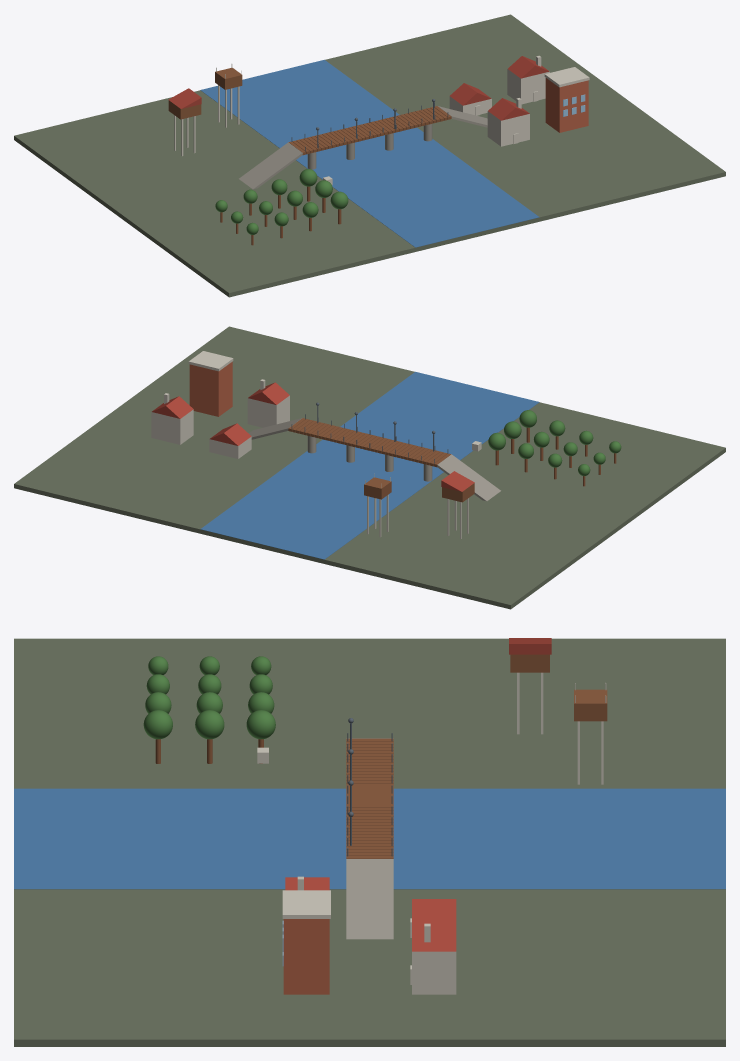
The model's file is semantics.L0.glb.
The picture shows the model from 3 angles, top to bottom: view 1: azimuth 30°, elevation 25°; view 2: azimuth 150°, elevation 25°; view 3: azimuth 270°, elevation 25°; orthographic projection. The views are drawn at different scales.
Visible parts, largest first — view 1: ground, river, street.h4.skin.core, rampW, street.h3.body, street.h2.body, street.h4.skin.parapet, watch2.cabin; view 2: ground, river, street.h4.skin.core, street.h2.body, street.h3.body, rampW, street.h1.body, street.h4.skin.parapet, watch2.cabin; view 3: ground, river, rampE, street.h4.skin.core, street.h2.body, street.h4.skin.parapet, street.h2.half2, street.h1.half2, watch2.cabin, watch.cabin, watch.cap, trees.7.crown (+2 smaller).
Part boxes in pixels (box(x1,y1,x2,y2)): ground: box(14, 14, 725, 297); river: box(200, 59, 539, 247); street.h4.skin.core: box(545, 78, 588, 132); rampW: box(239, 142, 302, 189); street.h3.body: box(487, 111, 529, 146); street.h2.body: box(507, 69, 549, 104); street.h4.skin.parapet: box(544, 67, 589, 87); watch2.cabin: box(215, 68, 242, 89); ground: box(14, 326, 725, 609); river: box(200, 371, 539, 559); street.h4.skin.core: box(189, 361, 232, 416); street.h2.body: box(151, 409, 193, 444); street.h3.body: box(247, 395, 289, 427); rampW: box(437, 454, 500, 501); street.h1.body: box(209, 436, 251, 458); street.h4.skin.parapet: box(188, 351, 233, 371); watch2.cabin: box(364, 477, 391, 499); ground: box(14, 638, 725, 1046); river: box(14, 788, 725, 889); rampE: box(346, 859, 393, 939); street.h4.skin.core: box(283, 919, 329, 994); street.h2.body: box(412, 951, 456, 994); street.h4.skin.parapet: box(282, 890, 330, 918); street.h2.half2: box(412, 924, 456, 951); street.h1.half2: box(412, 899, 456, 923); watch2.cabin: box(574, 689, 607, 721); watch.cabin: box(510, 654, 549, 672); watch.cap: box(509, 638, 551, 654); trees.7.crown: box(195, 710, 224, 739).
Bounding box in the file's own units: 120 × 14 × 90.
